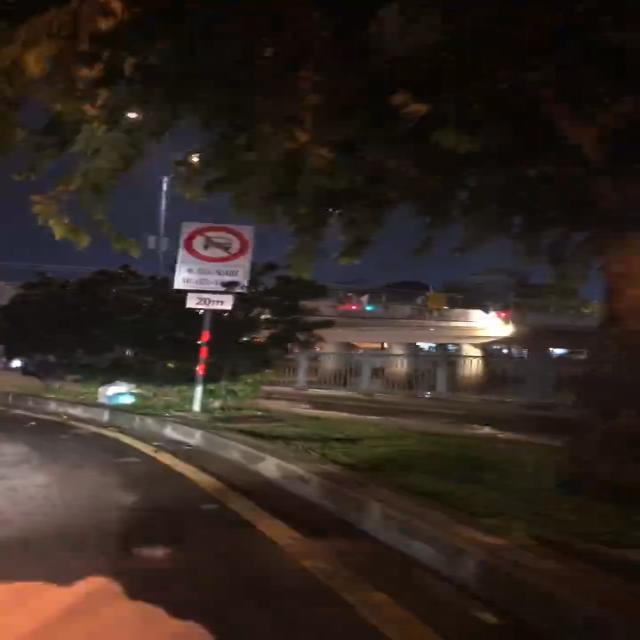Bien bao cam xe oto: (182, 220, 261, 263)
